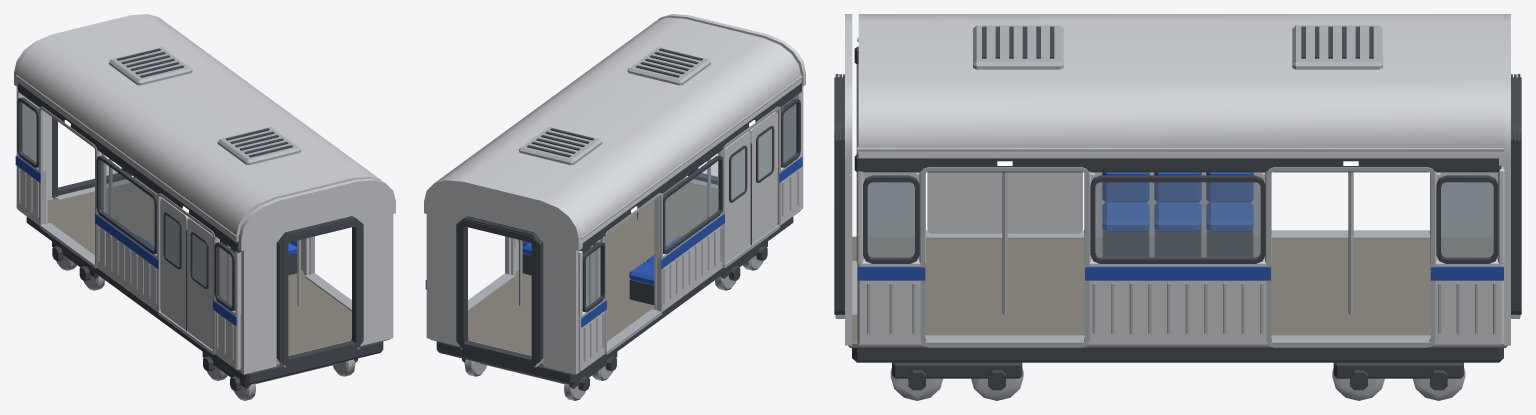
The model's file is MetroCar.glb.
3 views of the same model, side by side, from view 1: azimuth 30°, elevation 25°; view 2: azimuth 150°, elevation 25°; view 3: azimuth 270°, elevation 25° (orthographic). The views are drawn at different scales.
Visible parts, largest first — view 1: MetroCar_TrainBody, MetroCar_TrainDark, MetroCar_Stainless, MetroCar_Granite, MetroCar_Glass, MetroCar_Stripe; view 2: MetroCar_TrainBody, MetroCar_TrainDark, MetroCar_Stainless, MetroCar_Granite, MetroCar_Glass, MetroCar_Stripe, MetroCar_Seat; view 3: MetroCar_TrainBody, MetroCar_TrainDark, MetroCar_Granite, MetroCar_Stainless, MetroCar_Glass, MetroCar_Seat, MetroCar_Stripe.
Part boxes in pixels (left/top/right/bottom): MetroCar_TrainBody: left=14, top=14, right=395, bottom=374; MetroCar_TrainDark: left=17, top=48, right=383, bottom=391; MetroCar_Stainless: left=15, top=47, right=359, bottom=400; MetroCar_Granite: left=20, top=179, right=389, bottom=374; MetroCar_Glass: left=21, top=103, right=232, bottom=305; MetroCar_Stripe: left=15, top=155, right=236, bottom=325; MetroCar_TrainBody: left=424, top=14, right=805, bottom=374; MetroCar_TrainDark: left=436, top=48, right=801, bottom=391; MetroCar_Stainless: left=460, top=47, right=802, bottom=400; MetroCar_Granite: left=430, top=179, right=800, bottom=374; MetroCar_Glass: left=586, top=104, right=796, bottom=307; MetroCar_Stripe: left=425, top=157, right=802, bottom=327; MetroCar_Seat: left=518, top=219, right=705, bottom=284; MetroCar_TrainBody: left=845, top=14, right=1510, bottom=345; MetroCar_TrainDark: left=834, top=26, right=1521, bottom=390; MetroCar_Granite: left=848, top=236, right=1507, bottom=347; MetroCar_Stainless: left=836, top=25, right=1519, bottom=400; MetroCar_Glass: left=867, top=182, right=1493, bottom=257; MetroCar_Seat: left=1102, top=172, right=1253, bottom=232; MetroCar_Stripe: left=857, top=266, right=1503, bottom=280.
Size of the model in its own units: 10 by 13.34 by 25.84.
